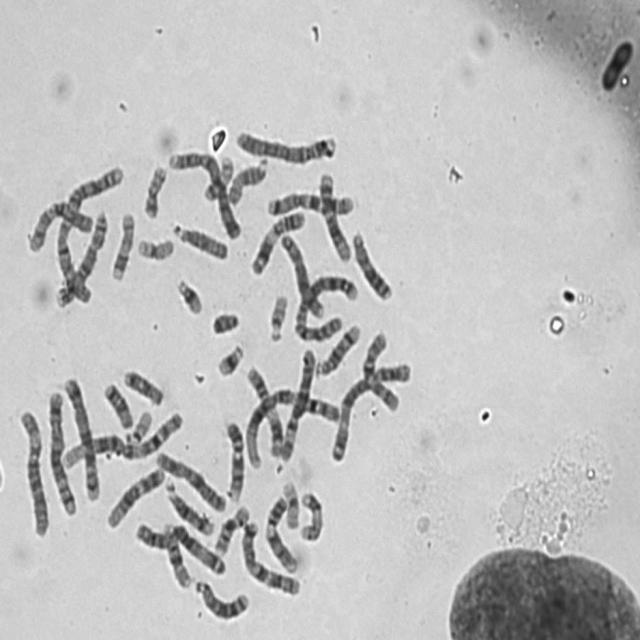A1: (240, 381, 341, 470), (57, 404, 185, 469)
A2: (51, 158, 126, 310), (290, 267, 360, 344)
A3: (326, 355, 415, 464), (128, 512, 224, 578)
B4: (164, 143, 243, 241), (231, 122, 339, 164)
B5: (58, 371, 102, 503), (43, 384, 78, 517)
C10: (23, 195, 96, 254), (358, 324, 401, 414)
C11: (246, 202, 308, 277), (242, 360, 285, 460)
C12: (102, 460, 166, 530), (315, 167, 354, 264)
C6: (276, 342, 318, 463), (14, 404, 50, 539)
C7: (237, 514, 303, 598), (262, 186, 357, 217)
C8: (52, 206, 110, 308), (274, 227, 328, 321)
C9: (260, 489, 300, 575), (220, 414, 246, 504)
D13: (346, 225, 394, 303), (190, 573, 250, 623)
D14: (160, 470, 216, 537), (312, 317, 363, 379)
D15: (168, 216, 230, 262), (223, 152, 270, 206)
E16: (158, 521, 196, 597), (209, 499, 252, 558)
E17: (106, 206, 136, 282), (295, 486, 325, 544)
E18: (119, 363, 165, 407), (98, 376, 134, 432)
F19: (132, 230, 176, 263), (278, 476, 301, 530)
F20: (198, 149, 234, 202), (139, 158, 169, 219)
G21: (171, 272, 205, 317), (211, 338, 245, 379)
G22: (264, 288, 290, 344), (121, 404, 154, 448)
X: (151, 445, 228, 515)
Y: (208, 305, 242, 336)
